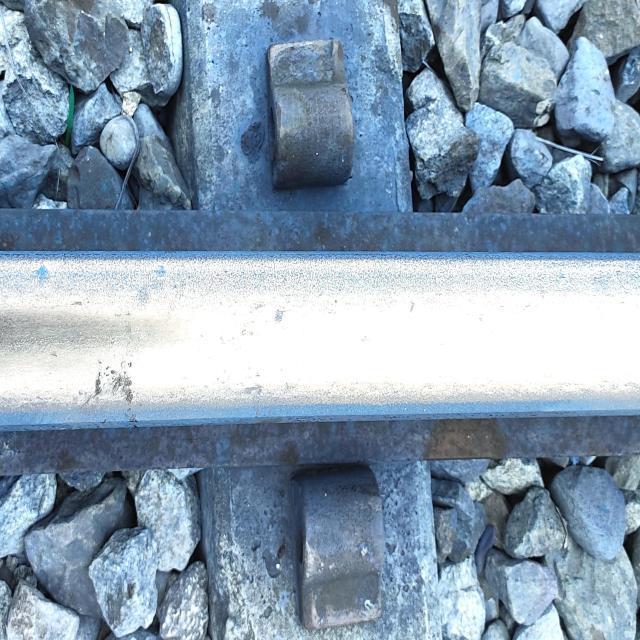Missing Fastener: (244, 19, 401, 206), (265, 456, 406, 640)
